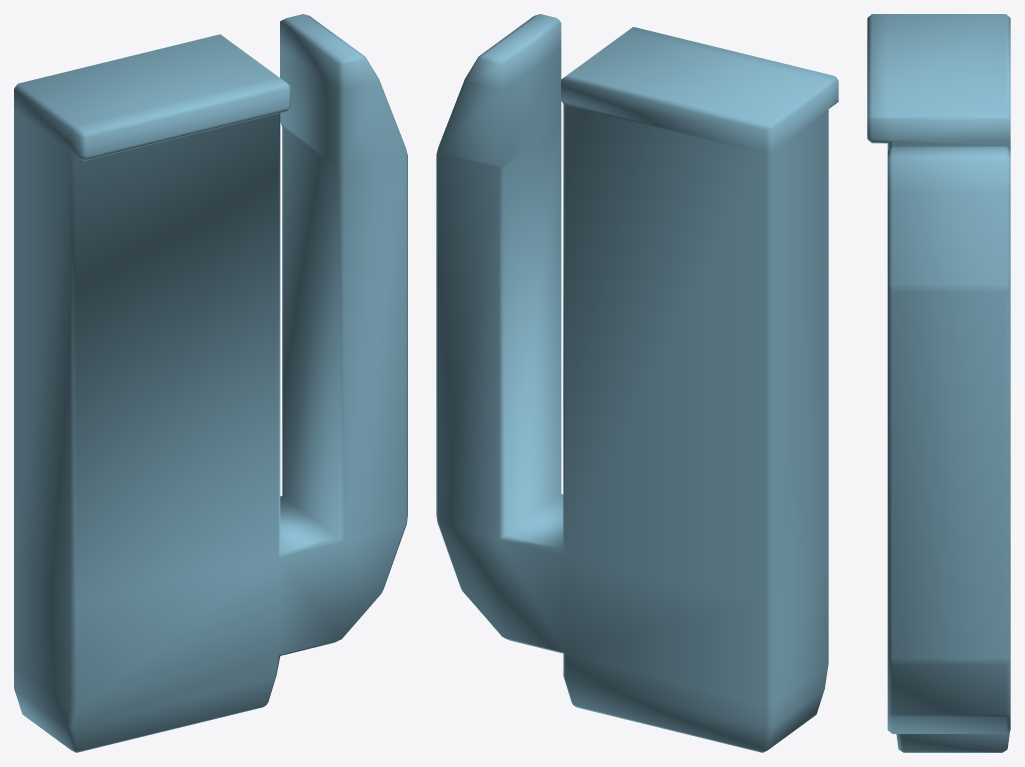
The model's file is Vice.fbx.
The picture shows the model from 3 angles, left to right: view 1: azimuth 30°, elevation 25°; view 2: azimuth 150°, elevation 25°; view 3: azimuth 270°, elevation 25°; orthographic projection.
Visible parts, largest first — view 1: Vice_LP_UE4; view 2: Vice_LP_UE4; view 3: Vice_LP_UE4.
Part boxes in pixels (x1,y1,x2,y2): Vice_LP_UE4: (14,14,407,752); Vice_LP_UE4: (436,14,838,752); Vice_LP_UE4: (867,14,1010,752).
Size of the model in its own units: 7.44 by 20.48 by 36.75.
